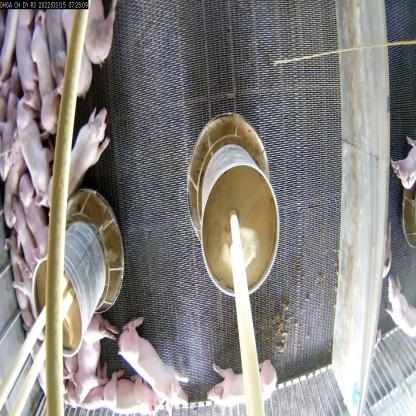Pig: (47, 99, 110, 205), (115, 316, 184, 409), (15, 84, 54, 201), (206, 357, 274, 416), (30, 9, 61, 137), (56, 2, 94, 104), (68, 324, 112, 398), (6, 191, 38, 277), (103, 372, 167, 415), (15, 170, 48, 253), (78, 0, 117, 70)
